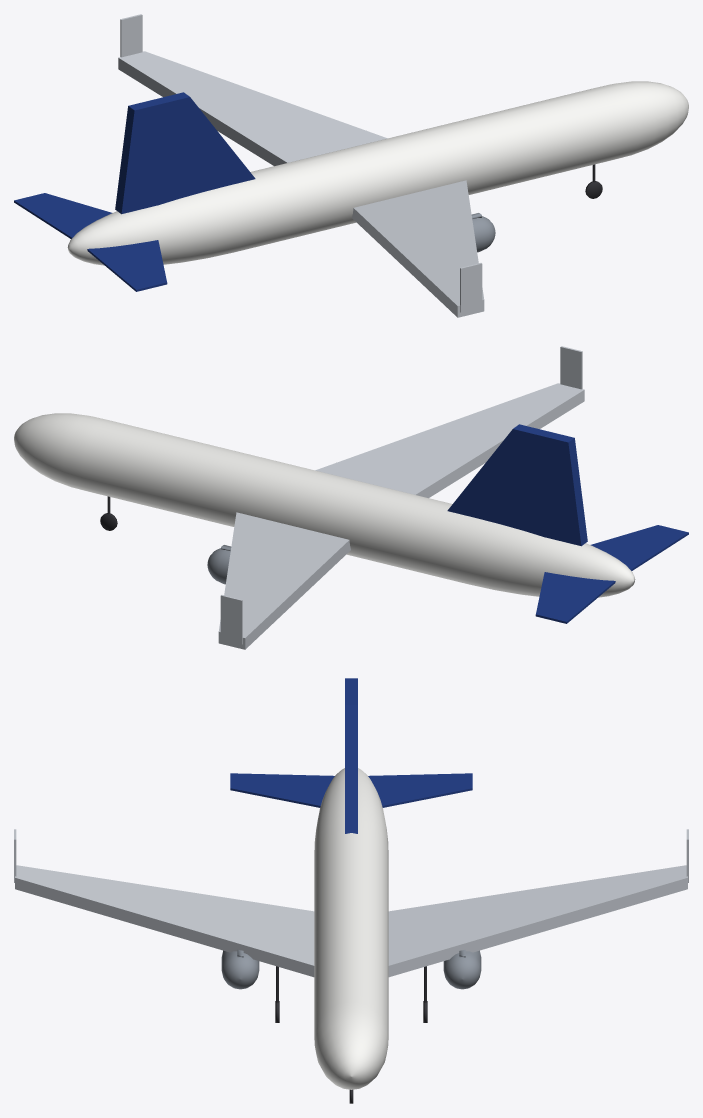
The picture shows the model from 3 angles, top to bottom: view 1: azimuth 30°, elevation 25°; view 2: azimuth 150°, elevation 25°; view 3: azimuth 270°, elevation 25°; orthographic projection.
Parts seen in each view (by area): view 1: fuselage, wings, tail, engines; view 2: fuselage, wings, tail, engines; view 3: wings, fuselage, tail, engines.
Boxes of the visible parts, x1,y1,x2,y2 form: fuselage: [67, 81, 688, 265]; wings: [118, 14, 484, 317]; tail: [14, 92, 255, 291]; engines: [471, 213, 495, 252]; fuselage: [14, 413, 635, 597]; wings: [218, 346, 584, 649]; tail: [447, 424, 688, 623]; engines: [207, 545, 231, 584]; wings: [14, 829, 688, 977]; fuselage: [314, 768, 388, 1089]; tail: [230, 678, 472, 833]; engines: [221, 949, 481, 989].
Bounding box in the file's own units: 37.6 × 11.79 × 35.92.
